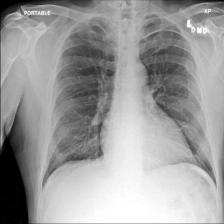normal: (37, 10, 220, 191)
